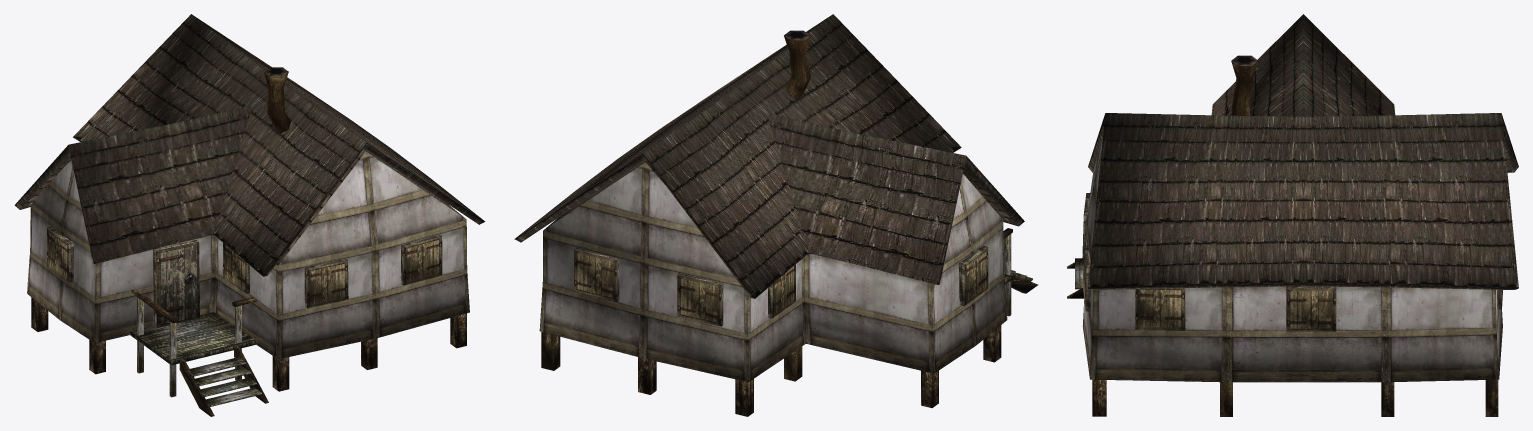
The model's file is house4-01.obj.
3 views of the same model, side by side, from view 1: azimuth 30°, elevation 25°; view 2: azimuth 150°, elevation 25°; view 3: azimuth 270°, elevation 25° (orthographic). The views are drawn at different scales.
Bounding box in the file's own units: 9.64 × 7.01 × 9.95.
Materials: 1 (1 with a texture image).
